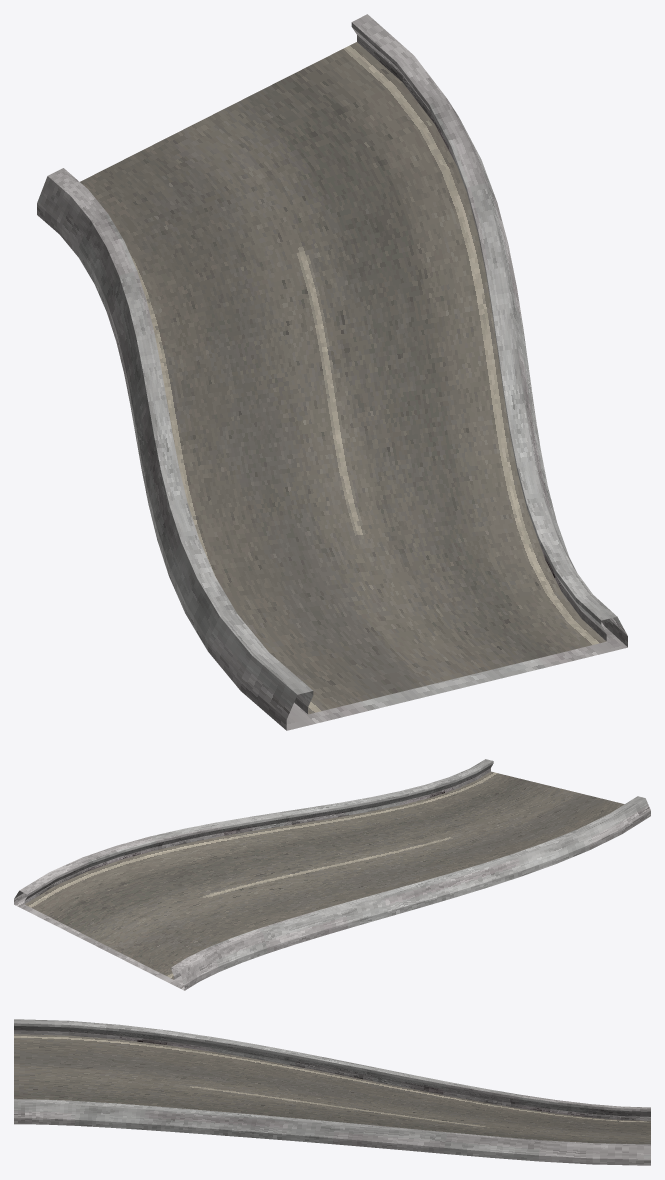
The model's file is road-Chicane-Flat-HalfBankedLeft-Even-Right1-Size3.glb.
The picture shows the model from 3 angles, top to bottom: view 1: azimuth 30°, elevation 25°; view 2: azimuth 150°, elevation 25°; view 3: azimuth 270°, elevation 25°; orthographic projection. The views are drawn at different scales.
Parts seen in each view (by area): view 1: road-Chicane-Flat-HalfBankedLeft-Even-Right1-Size3; view 2: road-Chicane-Flat-HalfBankedLeft-Even-Right1-Size3; view 3: road-Chicane-Flat-HalfBankedLeft-Even-Right1-Size3.
Boxes of the visible parts, box(x1,y1,x2,y2) form: road-Chicane-Flat-HalfBankedLeft-Even-Right1-Size3: box(37, 14, 627, 730); road-Chicane-Flat-HalfBankedLeft-Even-Right1-Size3: box(14, 759, 650, 990); road-Chicane-Flat-HalfBankedLeft-Even-Right1-Size3: box(14, 1019, 650, 1165).
Bounding box in the file's own units: 2 × 0.3359 × 3.
Materials: 2 (2 with a texture image).
